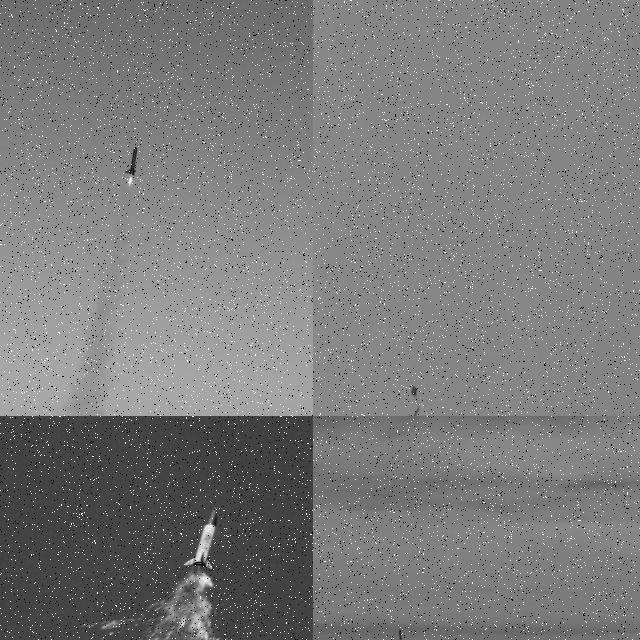Rocket: (183, 506, 218, 572), (125, 147, 139, 176), (397, 628, 405, 640)
